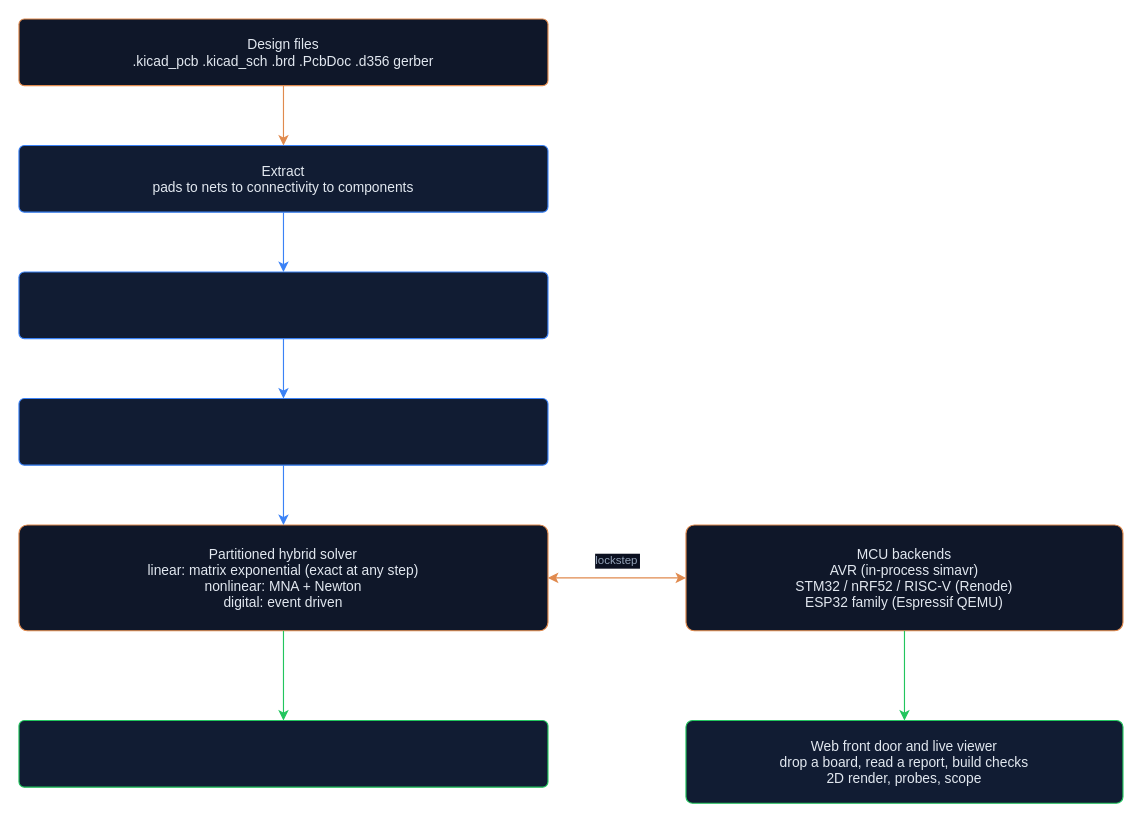
This 1142x822 diagram has some shape labels left out. The shapes that lost their labels are listed below. From the top down, each one's centre as x and y in pixels, then its label:
At (283,305): "Model binding built-in db | user SPICE | datasheet extraction".
At (283,431): "Circuit IR devices, nodes, parameters, parasitics".
At (283,753): "Reports and checks DRC lint SI thermal AC co-sim assertions".
